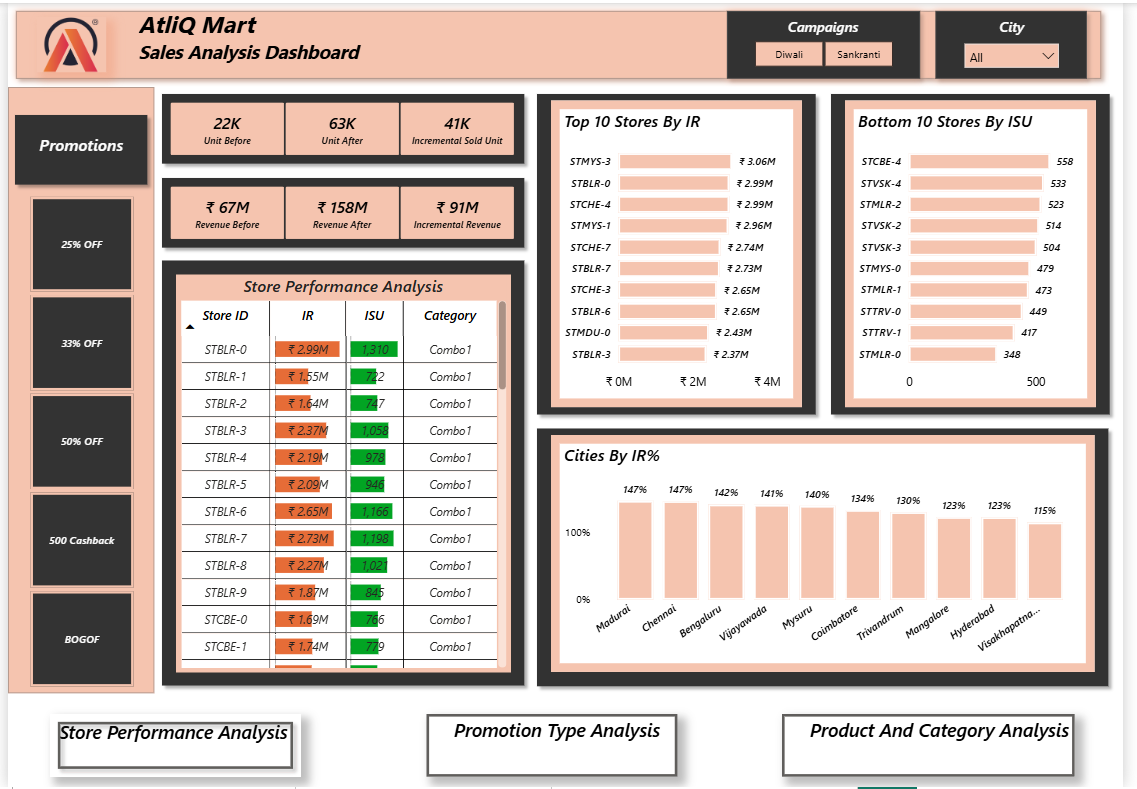

What the dashboard file says about the page in this screenshot:
{"tool":"powerbi","page":{"name":"Store Performance Analysis","canvas":[1280,900],"ordinal":0},"visuals":[{"type":"shape","box":[0,120,168,96],"z":0,"group":"g1"},{"type":"shape","box":[600,480,672,312],"z":0},{"type":"textbox","box":[24,144,120,48],"z":1000,"group":"g1"},{"type":"shape","box":[168,192,432,96],"z":1000},{"type":"shape","box":[168,288,432,504],"z":2000},{"type":"shape","box":[168,96,432,96],"z":3000},{"type":"shape","box":[600,96,336,384],"z":4000},{"type":"shape","box":[0,96,168,696],"z":5000},{"type":"shape","box":[0,0,1264,96],"z":6000},{"type":"image","box":[32,16,80,64],"z":7000},{"type":"textbox","box":[144,0,272,80],"z":8000},{"type":"shape","box":[1056,0,192,96],"z":8000,"group":"g3"},{"type":"slicer","title":"City","fields":{"Values":["dim_stores.city"]},"box":[1088,16,128,64],"z":9000,"group":"g3"},{"type":"slicer","fields":{"Values":["fact_events.promo_type"]},"box":[0,216,168,576],"z":9000},{"type":"shape","box":[816,0,240,96],"z":10000,"group":"g2"},{"type":"group","id":"g1","title":"Group 1","box":[0,120,168,96],"z":10000},{"type":"slicer","title":"Campaigns","fields":{"Values":["dim_campaigns.campaign_name"]},"box":[832,16,208,64],"z":11000,"group":"g2"},{"type":"cardVisual","fields":{"Data":["Sum(fact_events.Revenue Before)","Sum(fact_events.Actual Revenue)","Key Measures.IR"]},"box":[168,192,432,96],"z":11000},{"type":"cardVisual","fields":{"Data":["Sum(fact_events.quantity_sold(before_promo))","Sum(fact_events.Quantity_Sold)","Key Measures.ISU"]},"box":[168,96,432,96],"z":12000},{"type":"shape","box":[936,96,336,384],"z":13000},{"type":"barChart","title":"Bottom 10 Stores By ISU","fields":{"Category":["dim_stores.store_id"],"Y":["Key Measures.ISU"]},"box":[960,112,288,352],"z":14000},{"type":"group","id":"g2","title":"Group 2","box":[816,0,256,96],"z":15000},{"type":"group","id":"g3","title":"Group 3","box":[1056,0,192,96],"z":16000},{"type":"tableEx","title":"Store Performance Analysis","fields":{"Values":["dim_stores.store_id","Key Measures.IR","Key Measures.ISU","dim_products.category"]},"box":[192,312,384,456],"z":17000},{"type":"lineClusteredColumnComboChart","title":"Cities By IR%","fields":{"Category":["dim_stores.city"],"Y":["Key Measures.IR %"]},"box":[624,496,624,272],"z":18000},{"type":"textbox","box":[24,816,336,72],"z":19000},{"type":"textbox","box":[456,814.2,352,64],"z":20000},{"type":"textbox","box":[896,814.2,352,64],"z":21000},{"type":"barChart","title":"Top 10 Stores By IR","fields":{"Category":["dim_stores.store_id"],"Y":["Key Measures.IR"]},"box":[624,112,288,352],"z":22000},{"type":"actionButton","box":[480,816,288,72],"z":23000},{"type":"actionButton","box":[888,816,336,72],"z":24000},{"type":"actionButton","box":[48,816,288,72],"z":25000}]}

Visuals, with their boxes in screenshot pixels (x1, y1, x2, y2), scaled from the page's 1280x900 canvas onto the 1137x789 screenshot:
shape: (left=0, top=105, right=149, bottom=189)
shape: (left=533, top=421, right=1130, bottom=694)
textbox: (left=21, top=126, right=128, bottom=168)
shape: (left=149, top=168, right=533, bottom=252)
shape: (left=149, top=252, right=533, bottom=694)
shape: (left=149, top=84, right=533, bottom=168)
shape: (left=533, top=84, right=831, bottom=421)
shape: (left=0, top=84, right=149, bottom=694)
shape: (left=0, top=0, right=1123, bottom=84)
image: (left=28, top=14, right=99, bottom=70)
textbox: (left=128, top=0, right=370, bottom=70)
shape: (left=938, top=0, right=1109, bottom=84)
"City" slicer: (left=966, top=14, right=1080, bottom=70)
slicer - fact_events.promo_type: (left=0, top=189, right=149, bottom=694)
shape: (left=725, top=0, right=938, bottom=84)
"Group 1" group: (left=0, top=105, right=149, bottom=189)
"Campaigns" slicer: (left=739, top=14, right=924, bottom=70)
cardVisual - Sum(fact_events.Revenue Before) x Sum(fact_events.Actual Revenue): (left=149, top=168, right=533, bottom=252)
cardVisual - Sum(fact_events.quantity_sold(before_promo)) x Sum(fact_events.Quantity_Sold): (left=149, top=84, right=533, bottom=168)
shape: (left=831, top=84, right=1130, bottom=421)
"Bottom 10 Stores By ISU" barChart: (left=853, top=98, right=1109, bottom=407)
"Group 2" group: (left=725, top=0, right=952, bottom=84)
"Group 3" group: (left=938, top=0, right=1109, bottom=84)
"Store Performance Analysis" tableEx: (left=171, top=274, right=512, bottom=673)
"Cities By IR%" lineClusteredColumnComboChart: (left=554, top=435, right=1109, bottom=673)
textbox: (left=21, top=715, right=320, bottom=778)
textbox: (left=405, top=714, right=718, bottom=770)
textbox: (left=796, top=714, right=1109, bottom=770)
"Top 10 Stores By IR" barChart: (left=554, top=98, right=810, bottom=407)
actionButton: (left=426, top=715, right=682, bottom=778)
actionButton: (left=789, top=715, right=1087, bottom=778)
actionButton: (left=43, top=715, right=298, bottom=778)
